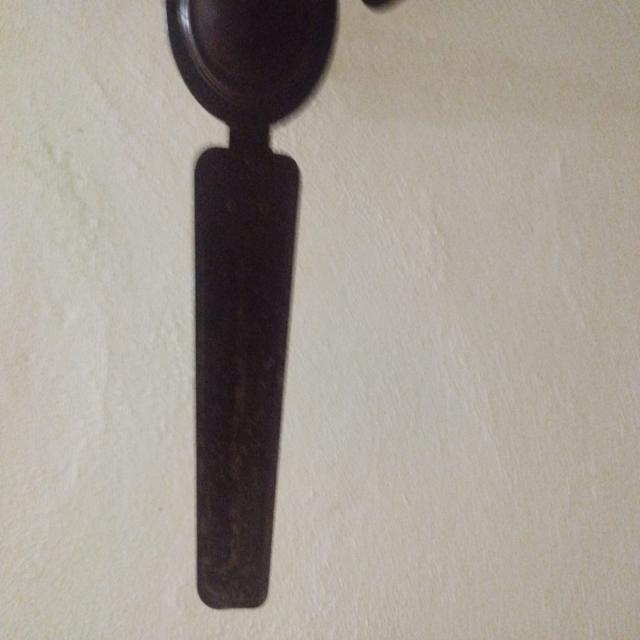fan_off: (166, 0, 409, 615)
